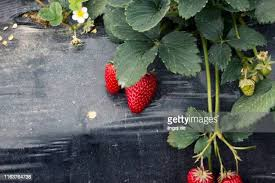ripe: (122, 69, 158, 117), (102, 58, 126, 98), (185, 166, 213, 182), (216, 169, 243, 182)
unripe: (238, 79, 255, 96)
